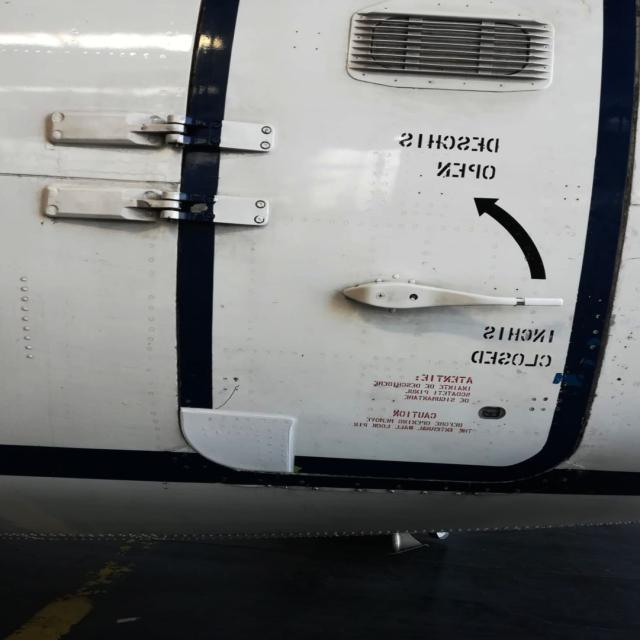Crack: (215, 382, 248, 412)
